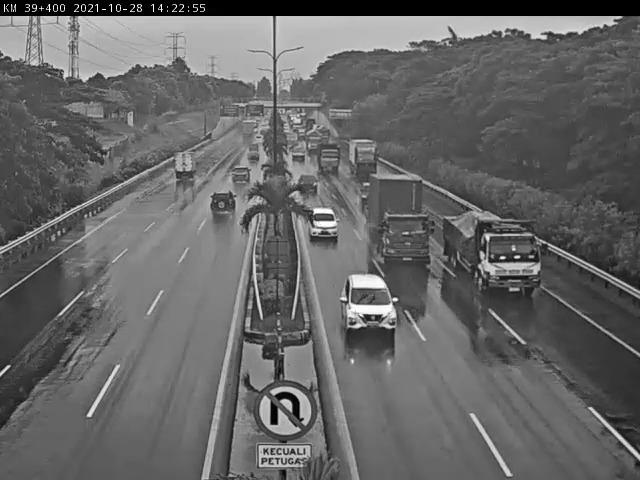truck-s-: (174, 151, 193, 177)
truck-xl-: (441, 207, 545, 300), (365, 170, 433, 270)
